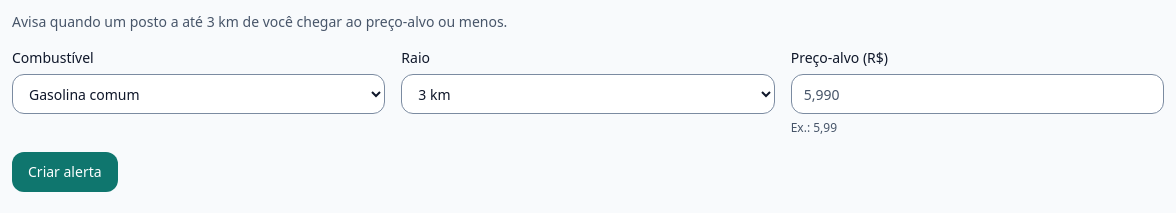
Scenario: AlertForm › shows the API message (e.g. alert limit reached) next to the field
This screenshot has width=1176, height=213.
Type "5,99" into the field labelled "Preço-alvo (R$)". click: (977, 94)
box: x1=791 y1=74 x2=1164 y2=114
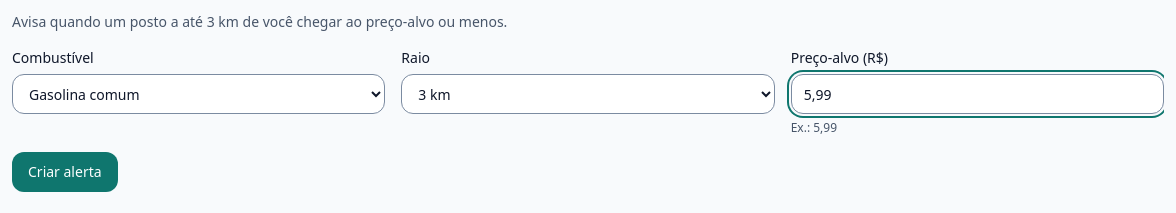
Click the button "Criar alerta". click: (65, 172)
box: x1=12 y1=152 x2=118 y2=192
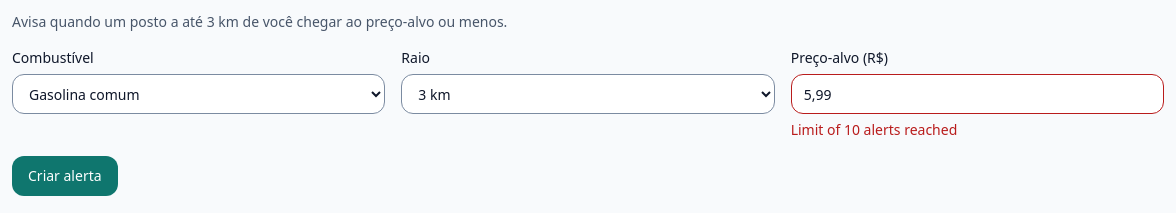
Now the message reads "Limit of 10 alerts reached", box x1=791 y1=120 x2=957 y2=139
